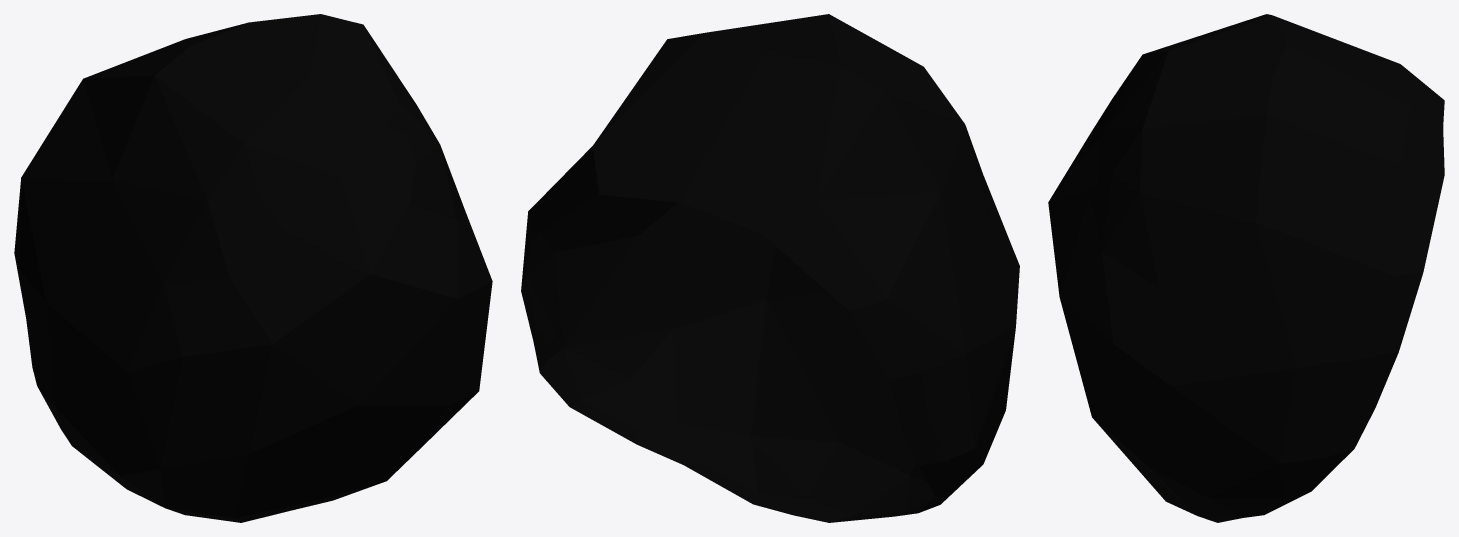
File: BadHat.glb
3 views of the same model, side by side, from view 1: azimuth 30°, elevation 25°; view 2: azimuth 150°, elevation 25°; view 3: azimuth 270°, elevation 25° (orthographic). The views are drawn at different scales.
Visible parts, largest first — view 1: BadHat; view 2: BadHat; view 3: BadHat.
Boxes of the visible parts, <box> form: BadHat: <box>14,14,492,522</box>; BadHat: <box>521,14,1019,522</box>; BadHat: <box>1048,14,1444,522</box>.
Bounding box in the file's own units: 0.1911 × 0.2143 × 0.1705.
Materials: 1 (1 with a texture image).
